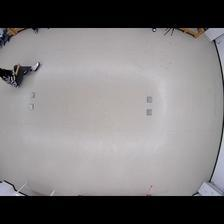fall: (1, 60, 41, 88)
